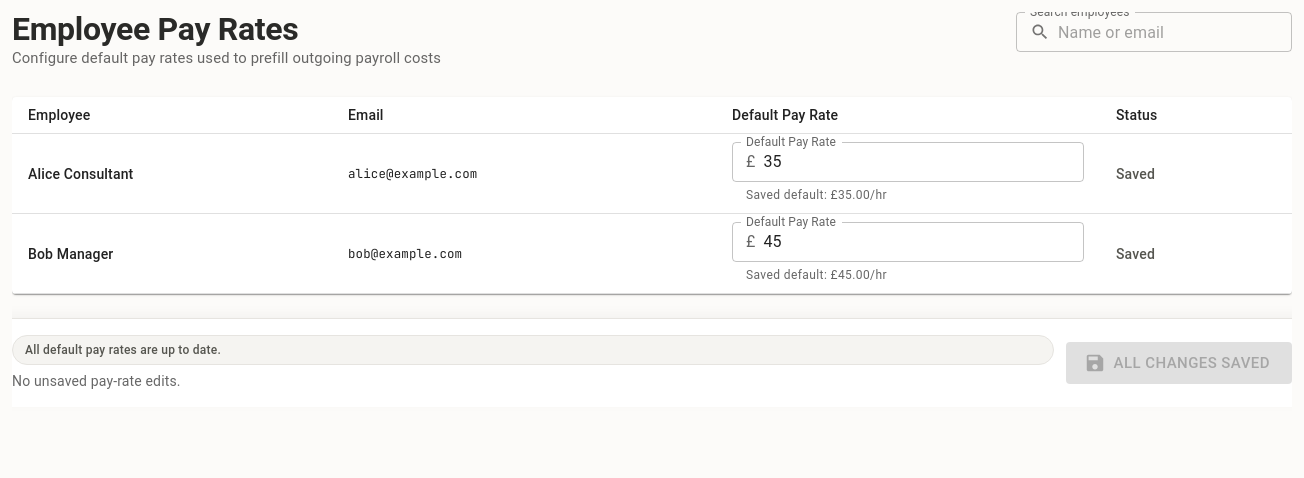
Test: FinancePayRatesPage › clears successful drafts and keeps failed drafts with row-level errors
Replace the text in the number field labelled "Default Pay Rate" in the row of "Alice Consultant" with "42" at (924, 162), box [764,142,1084,182]
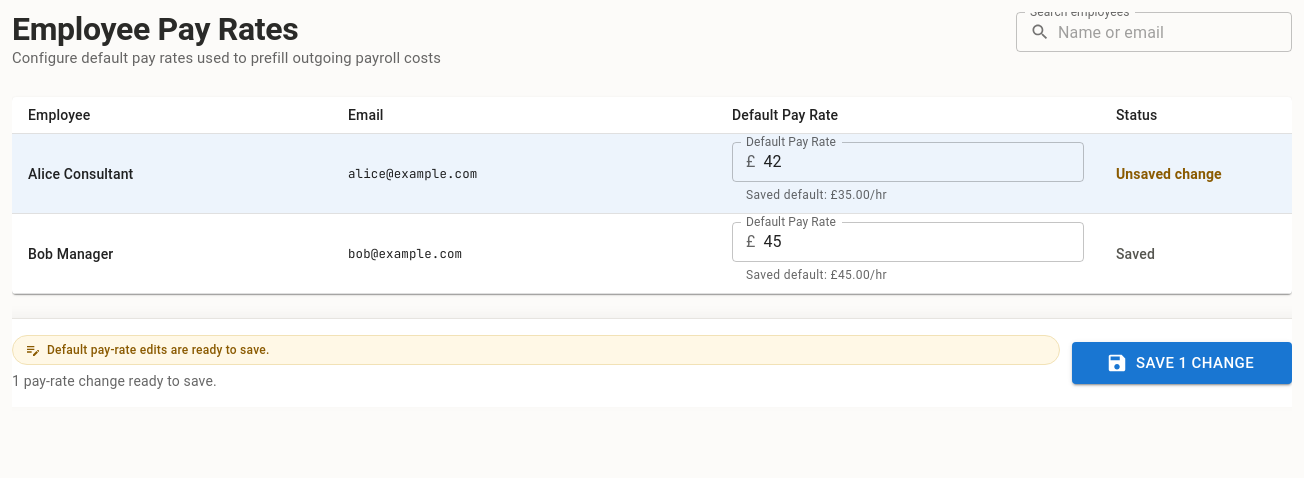
Replace the text in the number field labelled "Default Pay Rate" in the row of "Bob Manager" with "55" at (924, 242), box [764,222,1084,262]
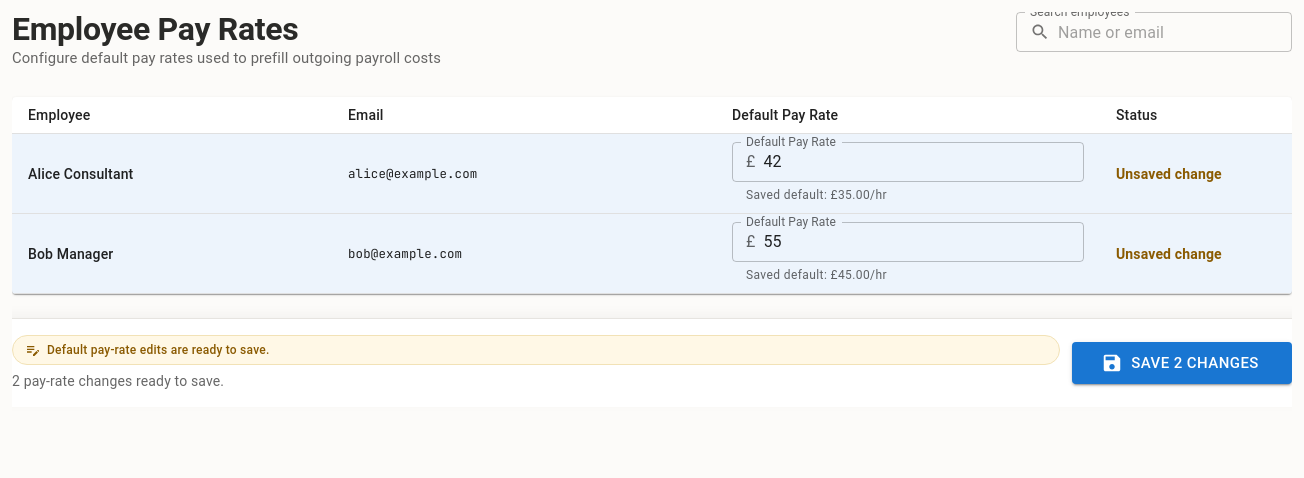
Click the button "Save 2 Changes" at (1182, 363), box [1072,342,1292,384]
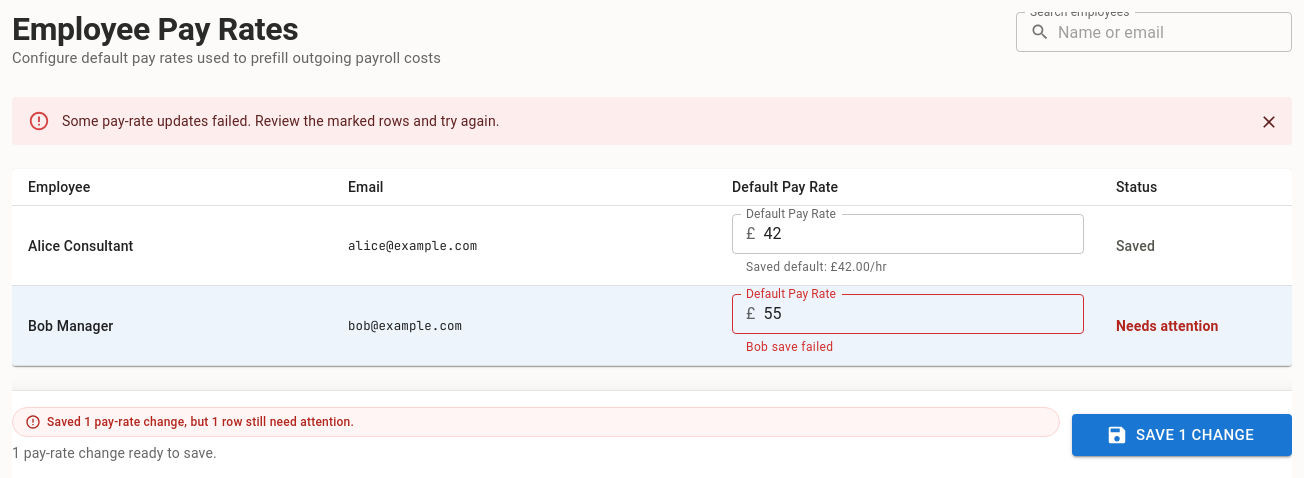
Now the text "Saved default: £42.00/hr" is shown, box [746,260,887,274]
Now the text "Bob save failed" is shown, box [746,340,833,354]
Now the button "Save 1 Change" is shown, box [1072,414,1292,456]
